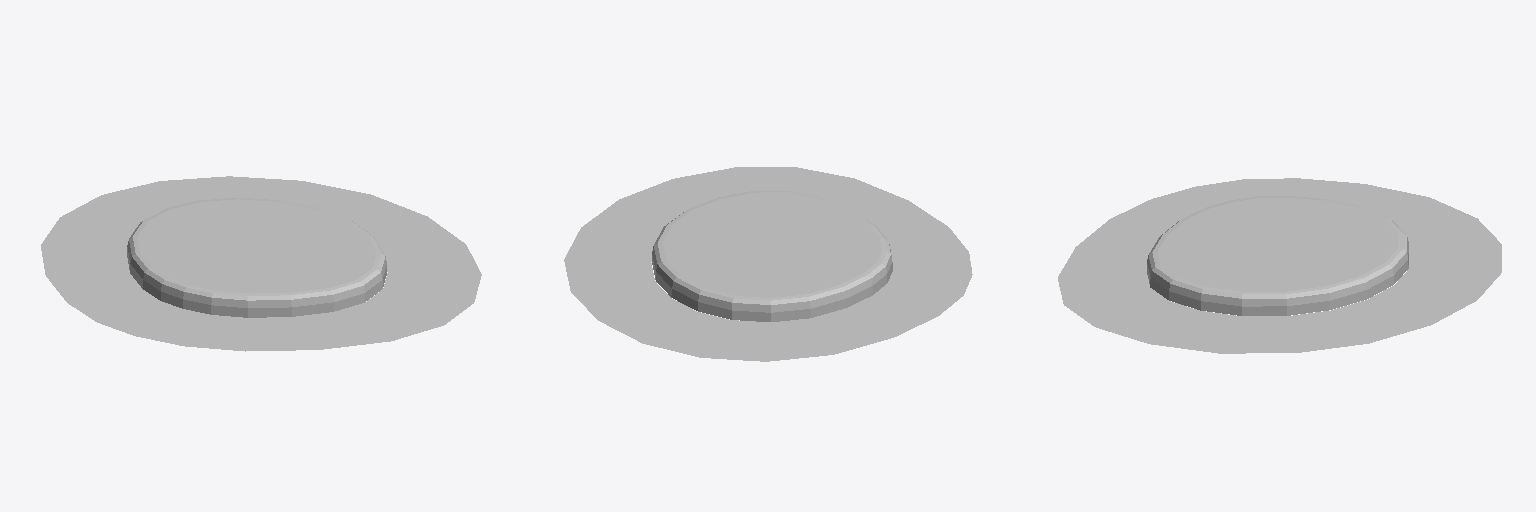
The picture shows the model from 3 angles: view 1: azimuth 30°, elevation 25°; view 2: azimuth 150°, elevation 25°; view 3: azimuth 270°, elevation 25°; orthographic projection.
Parts seen in each view (by area): view 1: 3_foam_Curve.012, 3_Curve.023; view 2: 3_foam_Curve.012, 3_Curve.023; view 3: 3_foam_Curve.012, 3_Curve.023.
Part boxes in pixels (x1,y1,x2,y2): 3_foam_Curve.012: (41, 176, 481, 351); 3_Curve.023: (127, 198, 386, 317); 3_foam_Curve.012: (564, 167, 972, 361); 3_Curve.023: (652, 191, 892, 321); 3_foam_Curve.012: (1058, 178, 1501, 353); 3_Curve.023: (1147, 196, 1408, 315).
Size of the model in its own units: 18.41 by 0.9671 by 19.74.